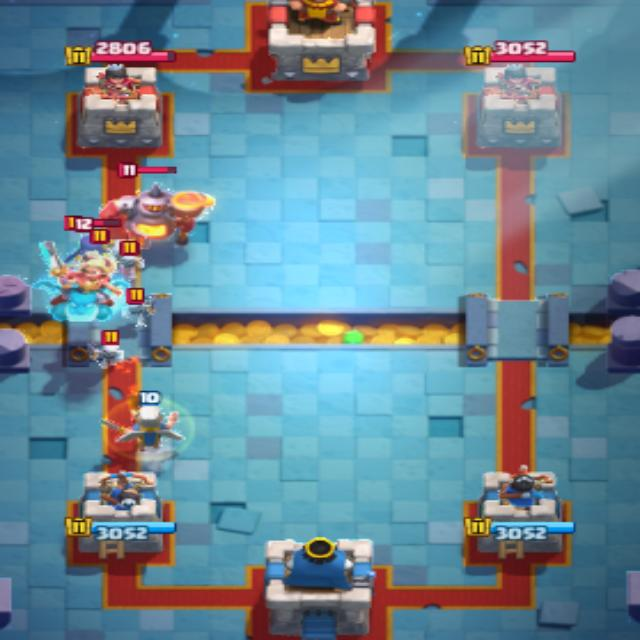EFurnace: (99, 183, 215, 245), (119, 163, 175, 179)
EKingTower: (263, 0, 383, 82)
ELarry: (88, 330, 125, 369), (122, 287, 154, 328), (113, 239, 144, 271)
ESpiritEmp: (50, 253, 120, 321)
EnemyPrincessTower: (475, 63, 562, 151), (78, 64, 162, 146)
OHealer: (119, 390, 182, 450)
OwnKingTower: (265, 537, 375, 639)
OwnPrincessTower: (475, 465, 573, 558), (78, 472, 162, 558)
